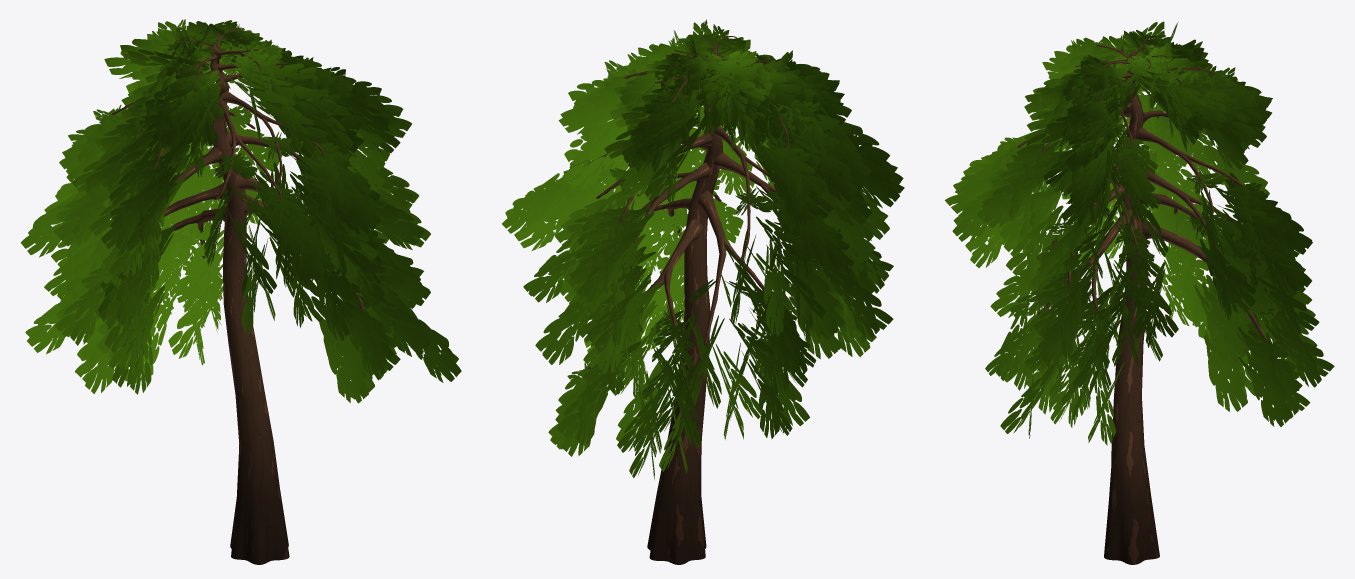
The model's file is GiantPine_2.glb.
3 renders of one model, left to right at view 1: azimuth 30°, elevation 25°; view 2: azimuth 150°, elevation 25°; view 3: azimuth 270°, elevation 25°, orthographic. The views are drawn at different scales.
Parts seen in each view (by area): view 1: GiantPine_2; view 2: GiantPine_2; view 3: GiantPine_2.
Part boxes in pixels (bbox=[...]): GiantPine_2: bbox=[20, 19, 461, 564]; GiantPine_2: bbox=[502, 19, 904, 564]; GiantPine_2: bbox=[945, 21, 1334, 564].
Size of the model in its own units: 12.76 by 16.9 by 12.45.
2 materials, 2 textured.
